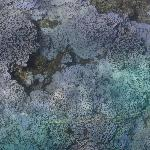dead: (3, 4, 149, 146)
